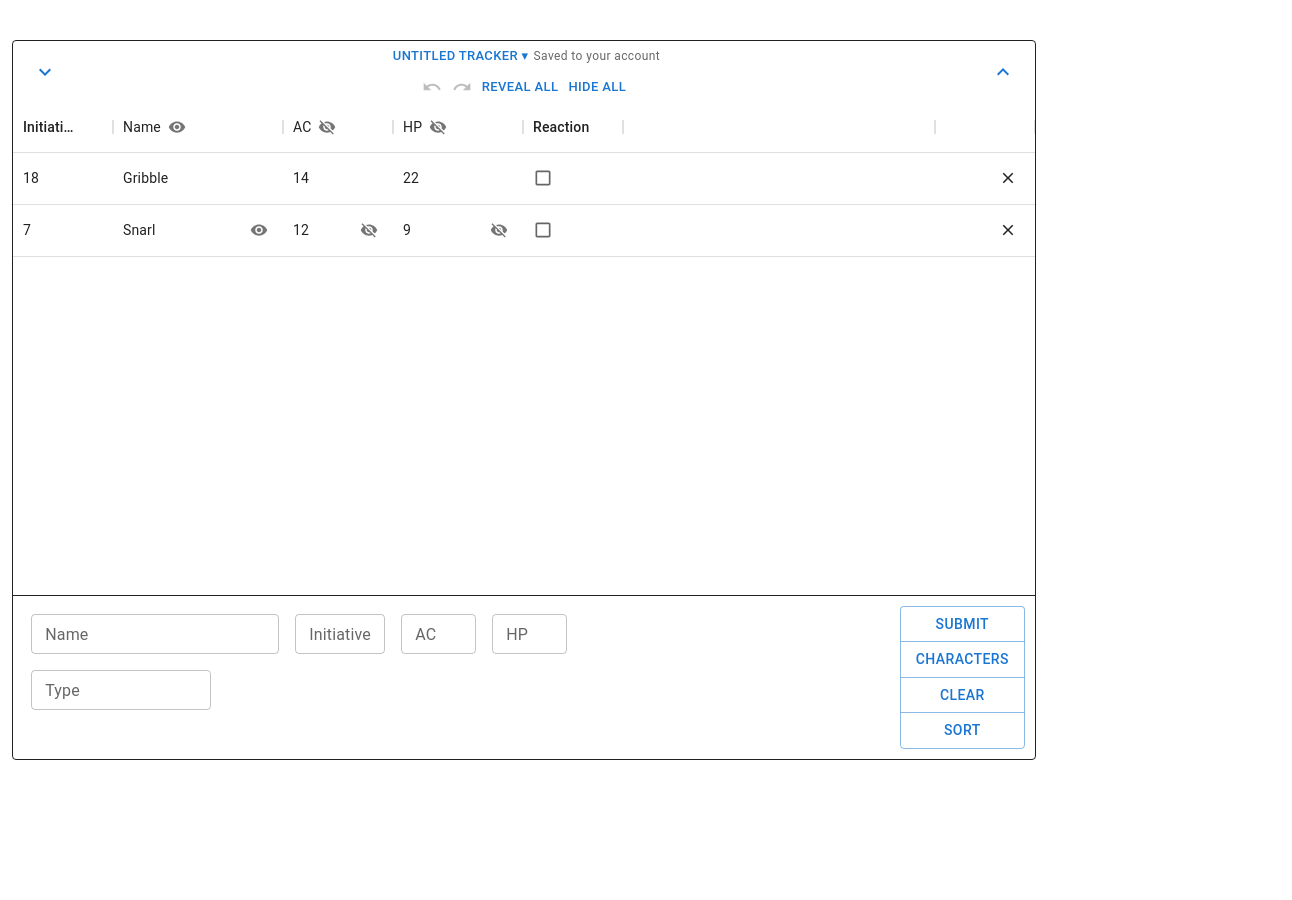
Test case: choosing a creature in the form › keeps the values the user typed
Expected: the text "Gribble" is shown, [123,168,168,188]
Type "Skulker" into the field labelled "Name" at (155, 634), box [31,614,279,654]
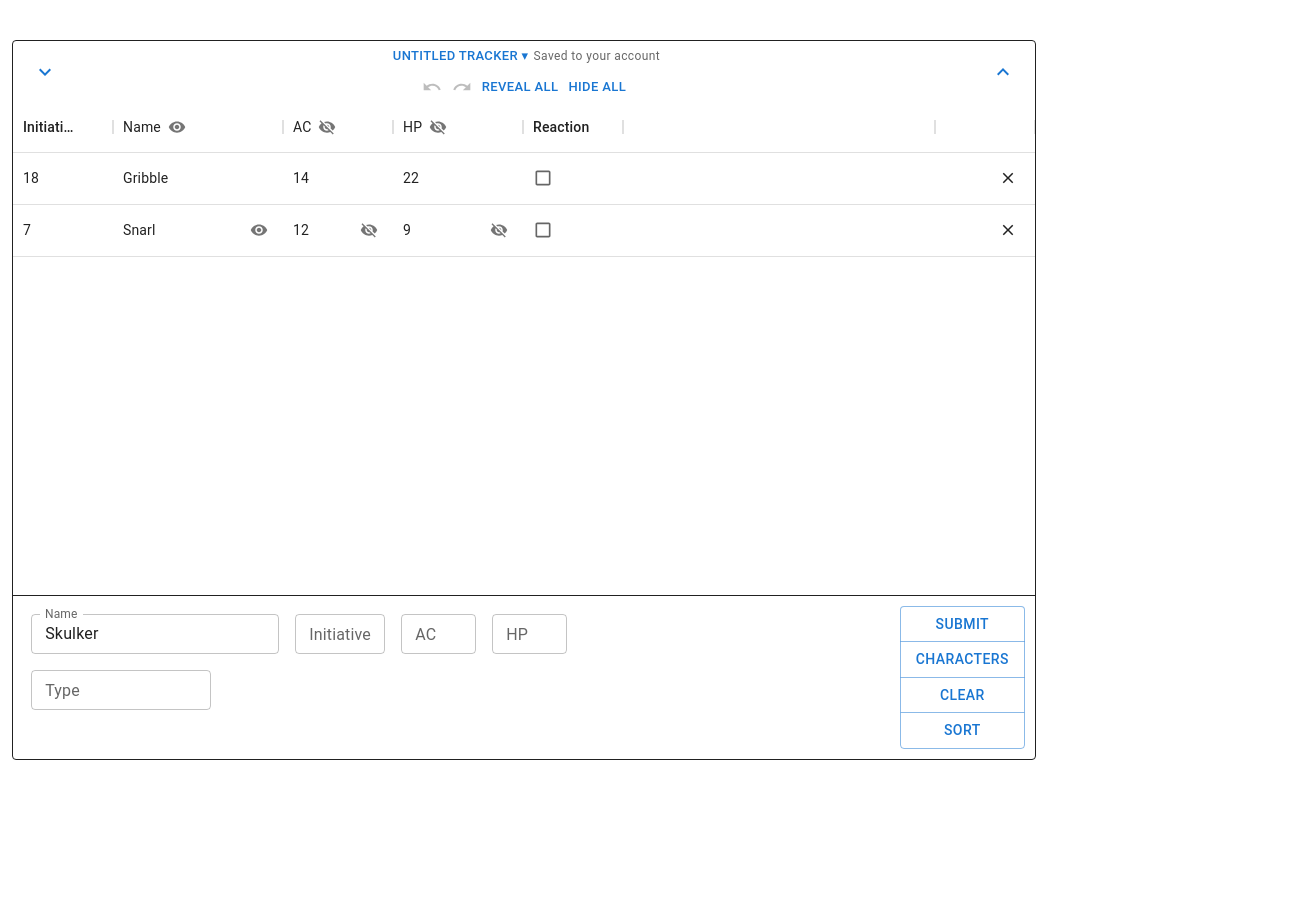
Type "12" into the field labelled "HP" at (530, 634), box [492,614,567,654]
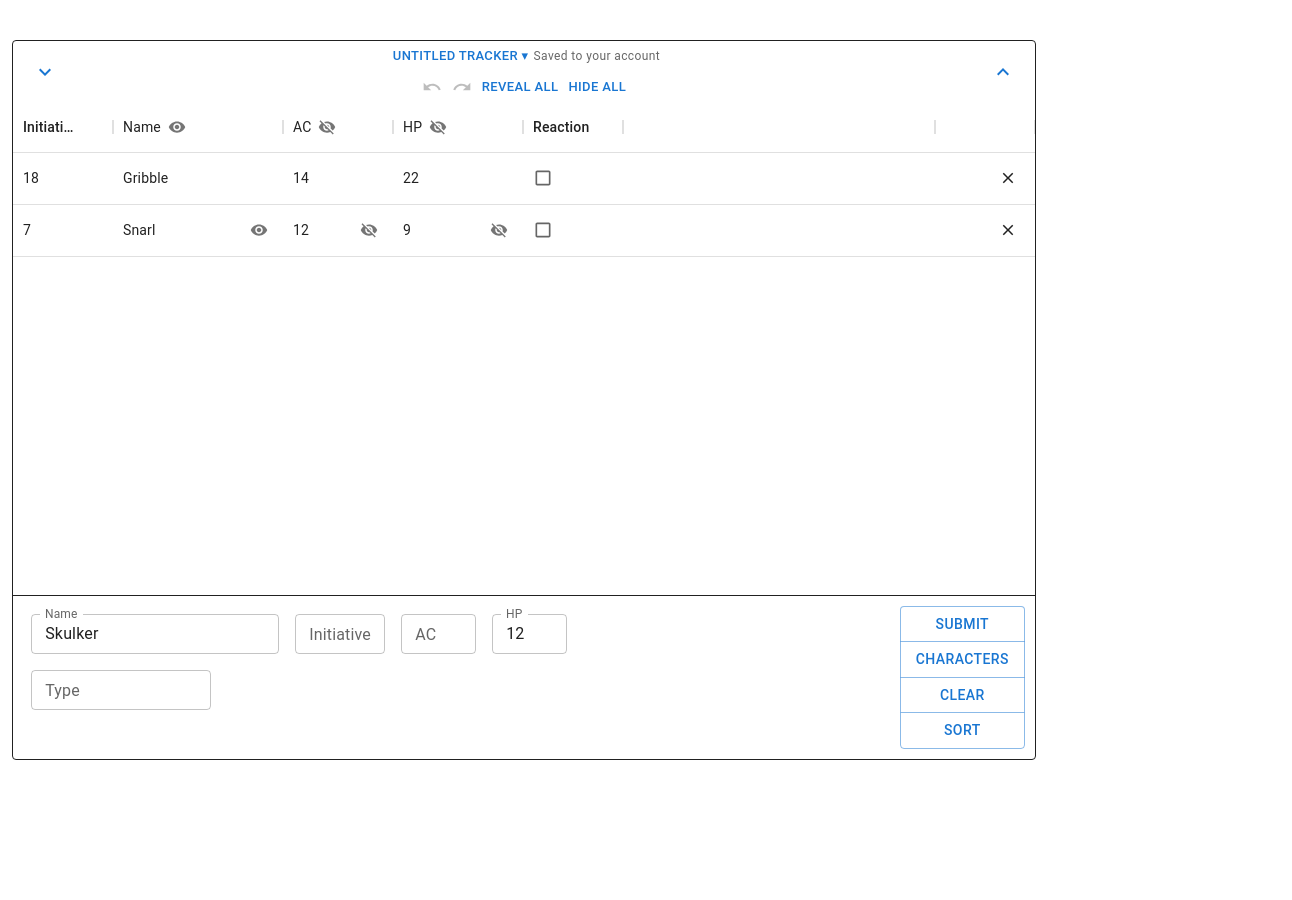
Type "Creature" into the dropdown labelled "Type" at (105, 690), box [37,676,172,704]
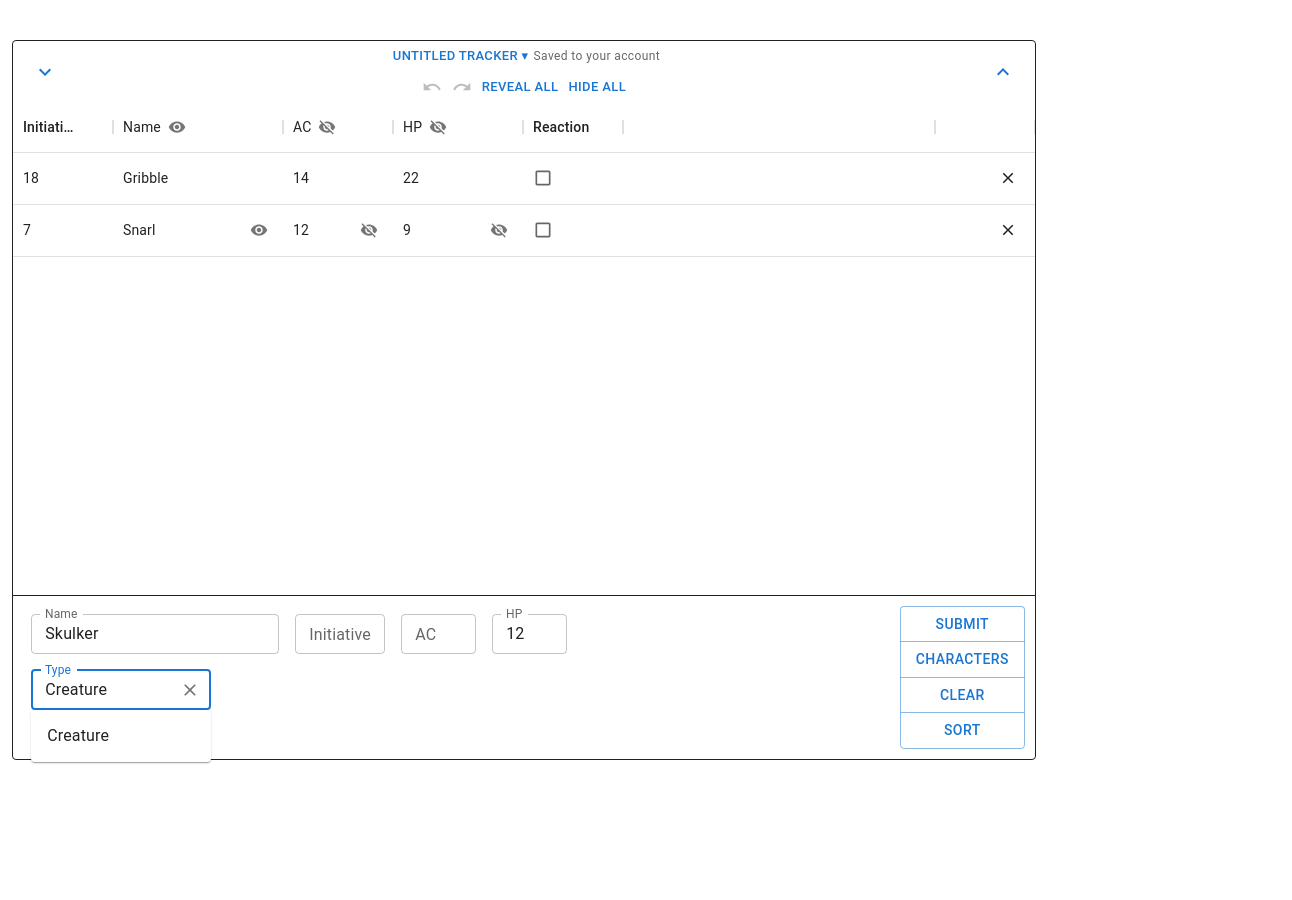
Press Enter in the dropdown labelled "Type", box [37,676,172,704]
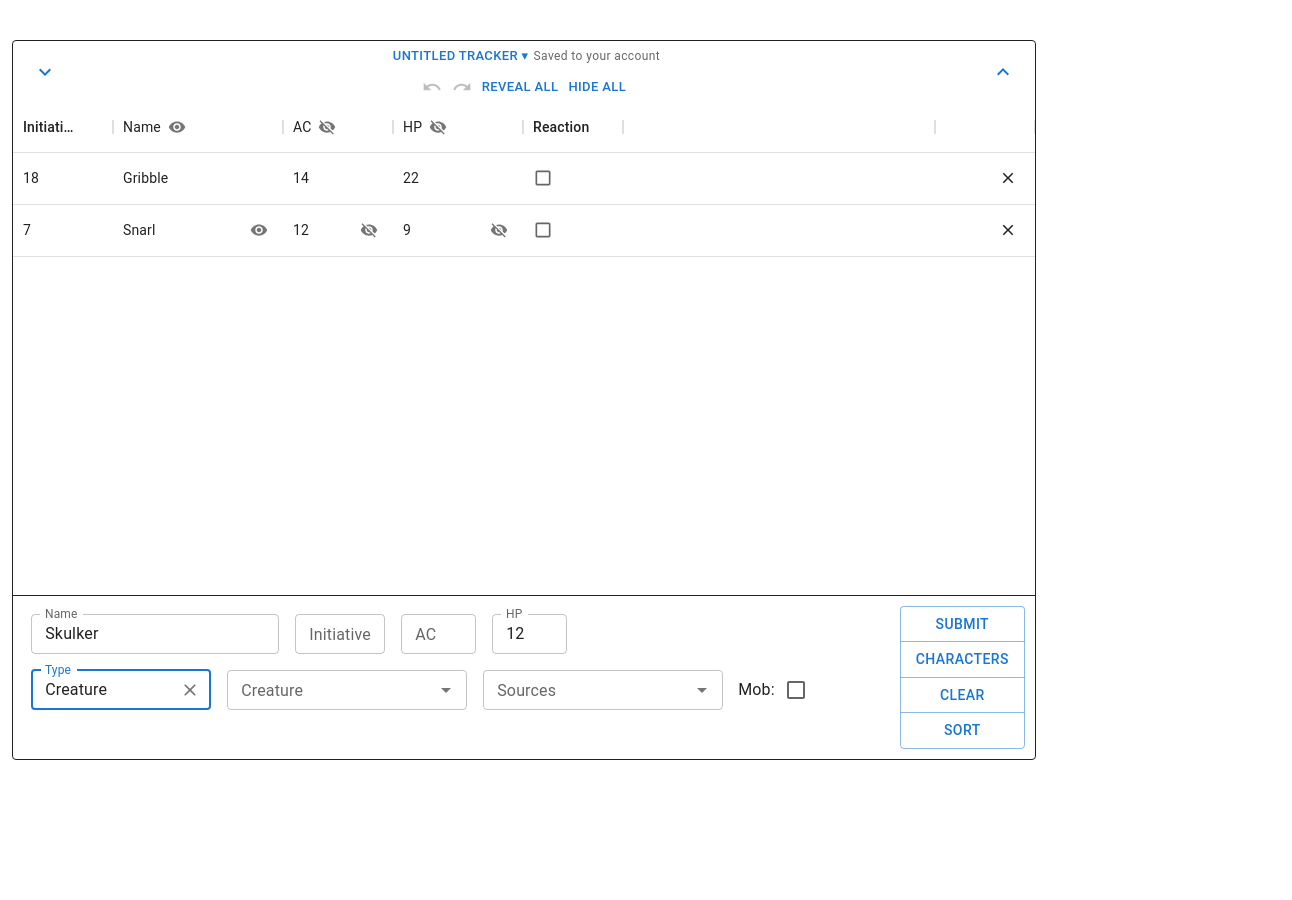
Type "Goblin" into the dropdown labelled "Creature" at (331, 690), box [233,676,428,704]
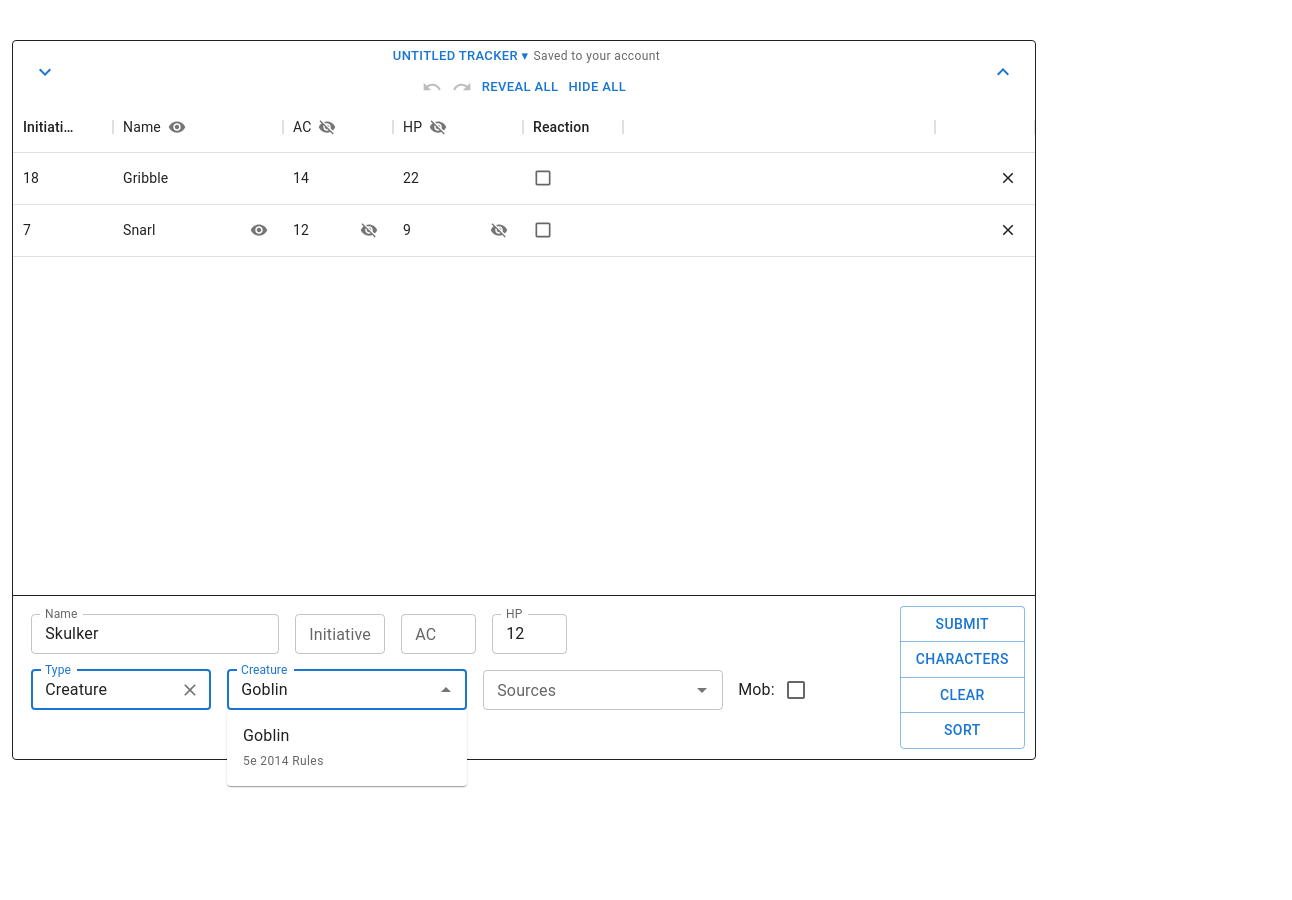
Click the option "Goblin 5e 2014 Rules" at (283, 747), box [243,726,324,768]
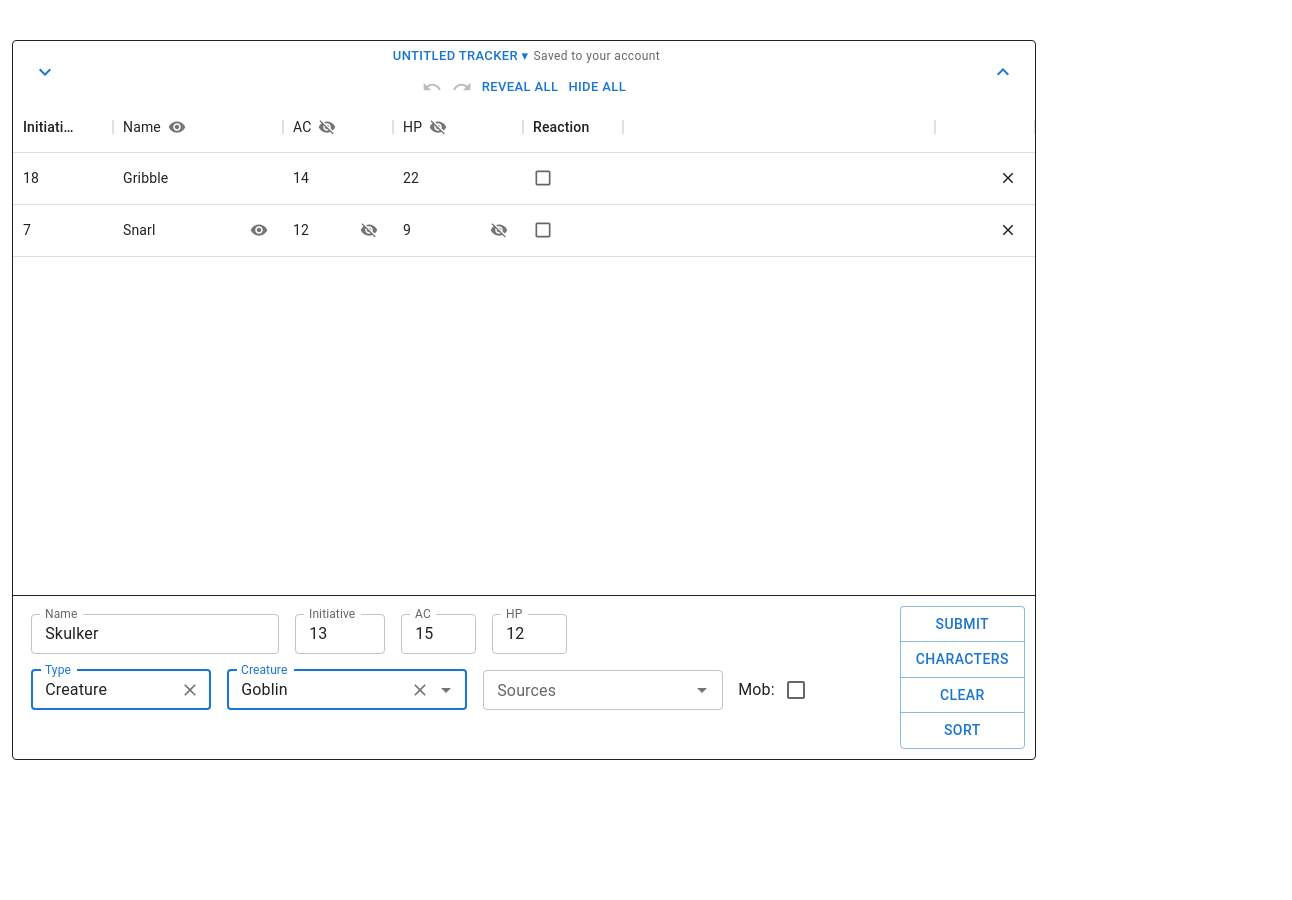
Now the field labelled "AC" holds "15", box [401,614,476,654]
